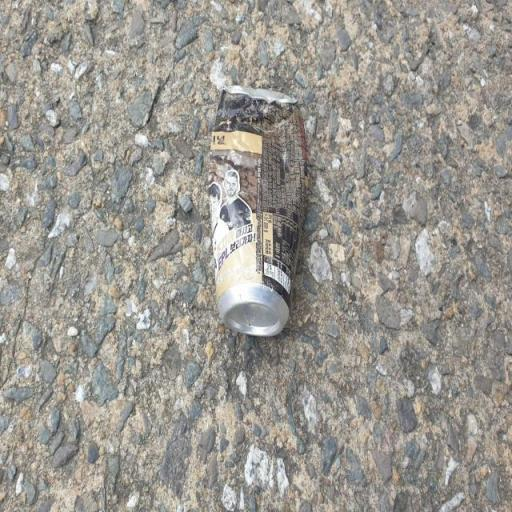metal: (188, 58, 322, 363)
